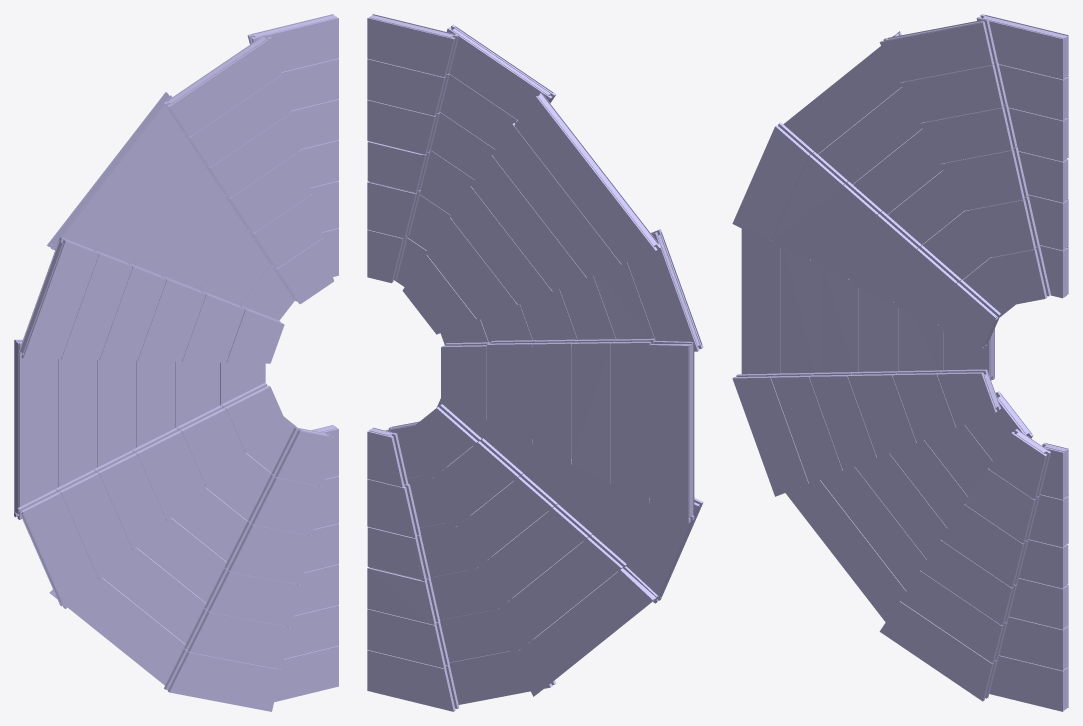
The model's file is Outer-Wheel-SideA-cut2.glb.
3 views of the same model, side by side, from view 1: azimuth 30°, elevation 25°; view 2: azimuth 150°, elevation 25°; view 3: azimuth 330°, elevation 25° (orthographic).
Parts seen in each view (by area): view 1: null; view 2: null; view 3: null.
Part boxes in pixels (x1,y1,x2,y2): null: (14,14,338,711); null: (367,14,703,711); null: (732,14,1068,711).
Size of the model in its own units: 12.19 by 24.37 by 0.7801.
